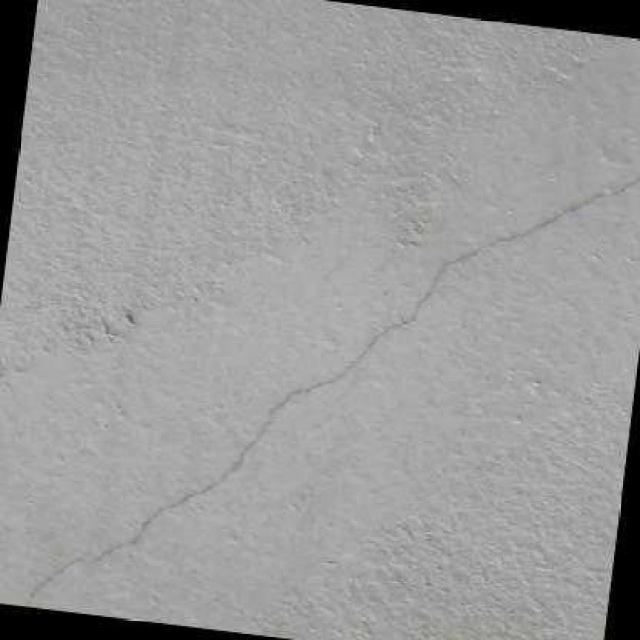D00: (18, 173, 640, 602)
